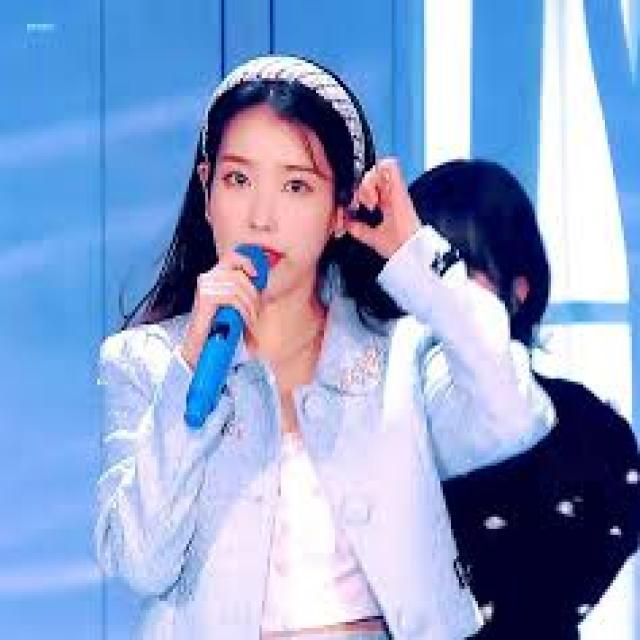earphone: (327, 200, 358, 232)
